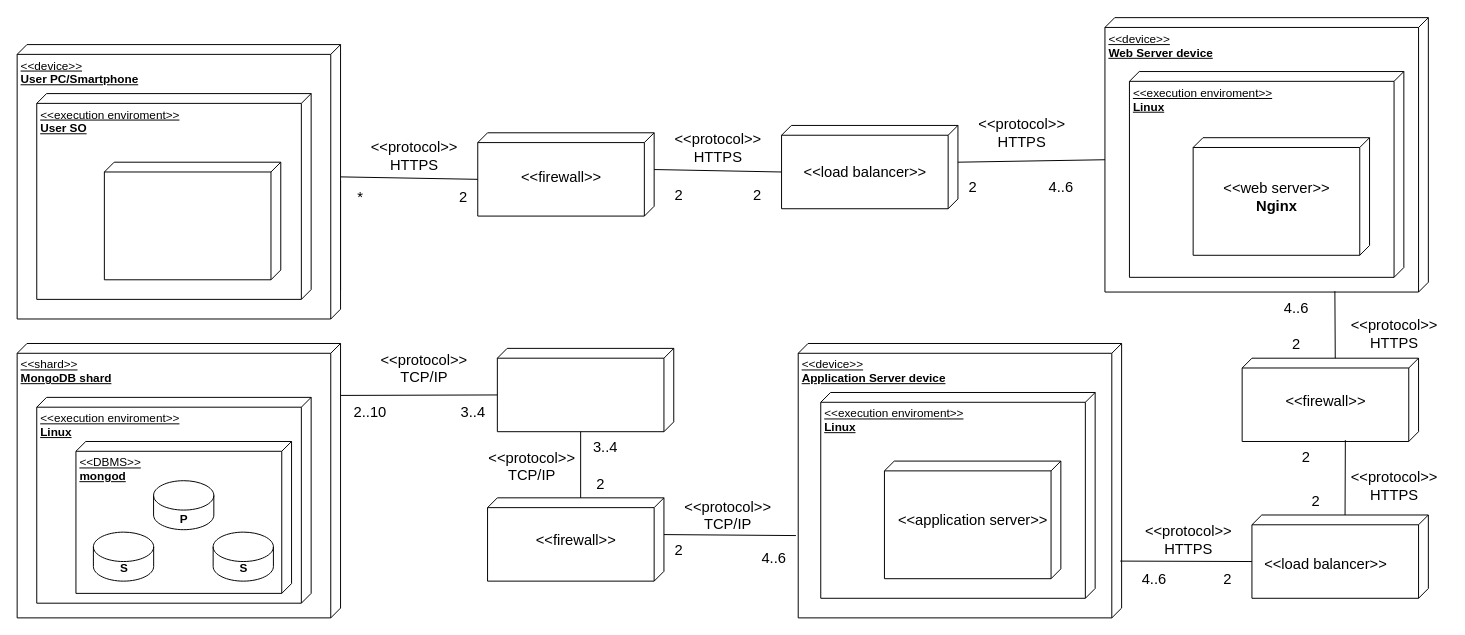
The diagram is 1465 pixels wide and 635 high, and some of its shapes have lost their labels. The centre of each missing label's shape, as x and y in pixels:
"<<router/balancer>> mongos" goes at point (585, 389).
"<<web browser>>" goes at point (192, 220).
